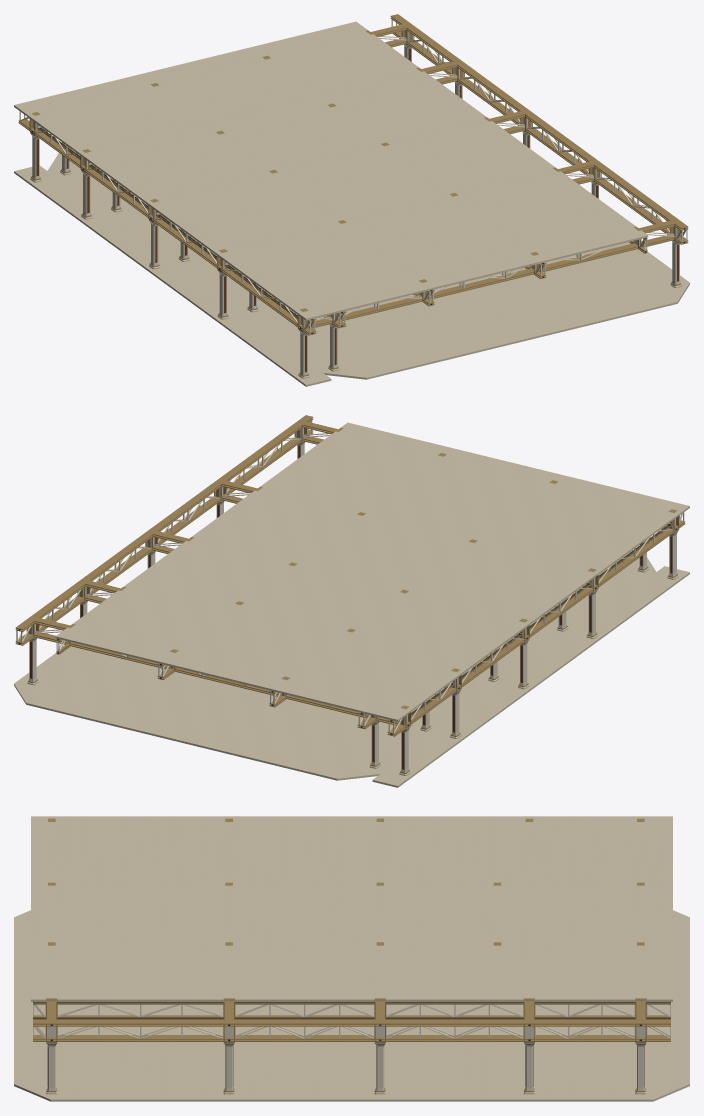
File: cinema_library_receiving_r001.glb
3 renders of one model, top to bottom at view 1: azimuth 30°, elevation 25°; view 2: azimuth 150°, elevation 25°; view 3: azimuth 270°, elevation 25°, orthographic. The views are drawn at different scales.
Visible parts, largest first — view 1: D11_ExactCinemaPlusWestStrip_UNION, Library_WearingCourse_02_18, Library_WearingCourse_04_18, Library_WearingCourse_06_18, Library_WearingCourse_02_14, Library_WearingCourse_04_14, Library_WearingCourse_06_14, Library_WearingCourse_02_10, Library_WearingCourse_04_10, Library_WearingCourse_02_04, Library_WearingCourse_04_04, Library_WearingCourse_06_10 (+14 smaller); view 2: D11_ExactCinemaPlusWestStrip_UNION, Library_WearingCourse_02_18, Library_WearingCourse_04_18, Library_WearingCourse_06_18, Library_WearingCourse_02_14, Library_WearingCourse_04_14, Library_WearingCourse_06_14, Library_WearingCourse_02_10, Library_WearingCourse_04_10, Library_WearingCourse_02_04, Library_WearingCourse_04_04, Library_WearingCourse_06_10 (+14 smaller); view 3: D11_ExactCinemaPlusWestStrip_UNION, Library_WearingCourse_02_18, Library_WearingCourse_04_18, Library_WearingCourse_06_18, Library_WearingCourse_02_14, Library_WearingCourse_04_14, Library_WearingCourse_06_14, Library_WearingCourse_02_10, Library_WearingCourse_04_10, Library_WearingCourse_02_04, Library_WearingCourse_04_04, Library_WearingCourse_06_10 (+44 smaller).
Part boxes in pixels (x1=…): D11_ExactCinemaPlusWestStrip_UNION: x1=14, y1=149, x2=689, y2=386; Library_WearingCourse_02_18: x1=229, y1=224, x2=416, y2=307; Library_WearingCourse_04_18: x1=348, y1=197, x2=528, y2=278; Library_WearingCourse_06_18: x1=460, y1=172, x2=632, y2=251; Library_WearingCourse_02_14: x1=160, y1=174, x2=336, y2=248; Library_WearingCourse_04_14: x1=279, y1=147, x2=447, y2=219; Library_WearingCourse_06_14: x1=391, y1=121, x2=552, y2=191; Library_WearingCourse_02_10: x1=106, y1=134, x2=267, y2=197; Library_WearingCourse_04_10: x1=225, y1=107, x2=379, y2=168; Library_WearingCourse_02_04: x1=42, y1=87, x2=199, y2=148; Library_WearingCourse_04_04: x1=161, y1=60, x2=311, y2=119; Library_WearingCourse_06_10: x1=337, y1=82, x2=483, y2=141; D11_ExactCinemaPlusWestStrip_UNION: x1=14, y1=550, x2=689, y2=787; Library_WearingCourse_02_18: x1=479, y1=484, x2=666, y2=567; Library_WearingCourse_04_18: x1=367, y1=457, x2=547, y2=538; Library_WearingCourse_06_18: x1=263, y1=432, x2=436, y2=511; Library_WearingCourse_02_14: x1=410, y1=544, x2=586, y2=617; Library_WearingCourse_04_14: x1=299, y1=516, x2=467, y2=588; Library_WearingCourse_06_14: x1=194, y1=491, x2=355, y2=561; Library_WearingCourse_02_10: x1=356, y1=594, x2=517, y2=657; Library_WearingCourse_04_10: x1=244, y1=567, x2=398, y2=628; Library_WearingCourse_02_04: x1=292, y1=644, x2=449, y2=704; Library_WearingCourse_04_04: x1=180, y1=616, x2=330, y2=675; Library_WearingCourse_06_10: x1=140, y1=541, x2=286, y2=601; D11_ExactCinemaPlusWestStrip_UNION: x1=14, y1=910, x2=689, y2=1101; Library_WearingCourse_02_18: x1=57, y1=822, x2=223, y2=882; Library_WearingCourse_04_18: x1=57, y1=885, x2=223, y2=942; Library_WearingCourse_06_18: x1=57, y1=945, x2=223, y2=998; Library_WearingCourse_02_14: x1=235, y1=822, x2=374, y2=882; Library_WearingCourse_04_14: x1=235, y1=885, x2=374, y2=942; Library_WearingCourse_06_14: x1=235, y1=945, x2=374, y2=998; Library_WearingCourse_02_10: x1=386, y1=822, x2=493, y2=882; Library_WearingCourse_04_10: x1=386, y1=885, x2=493, y2=942; Library_WearingCourse_02_04: x1=535, y1=822, x2=635, y2=882; Library_WearingCourse_04_04: x1=535, y1=885, x2=635, y2=942; Library_WearingCourse_06_10: x1=386, y1=945, x2=493, y2=998.
Bounding box in the file's own units: 52.8 × 8.74 × 71.6.
Materials: 6 (6 with a texture image).
